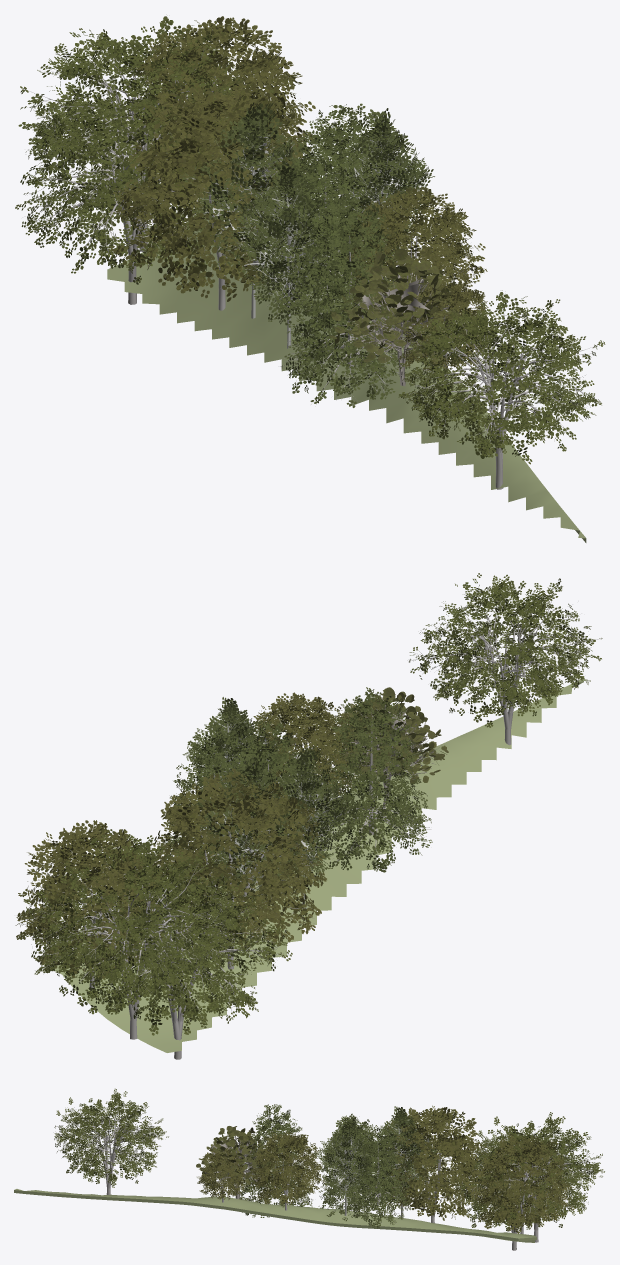
The picture shows the model from 3 angles, top to bottom: view 1: azimuth 30°, elevation 25°; view 2: azimuth 150°, elevation 25°; view 3: azimuth 270°, elevation 25°; orthographic projection. The views are drawn at different scales.
Visible parts, largest first — view 1: SW_W_trees_Tree_015_UNVERIFIEDspecies, SW_W_trees_Tree_019_UNVERIFIEDspecies, SW_W_trees_Tree_023_UNVERIFIEDspecies, SW_W_trees_Tree_050_UNVERIFIEDspecies, SW_ground_west_lawn_-2_0, SW_W_trees_Tree_096_UNVERIFIEDspecies; view 2: SW_W_trees_Tree_015_UNVERIFIEDspecies, SW_W_trees_Tree_019_UNVERIFIEDspecies, SW_W_trees_Tree_050_UNVERIFIEDspecies, SW_ground_west_lawn_-2_0, SW_W_trees_Tree_023_UNVERIFIEDspecies, SW_W_trees_Tree_096_UNVERIFIEDspecies; view 3: SW_W_trees_Tree_019_UNVERIFIEDspecies, SW_W_trees_Tree_015_UNVERIFIEDspecies, SW_W_trees_Tree_050_UNVERIFIEDspecies, SW_ground_west_lawn_-2_0, SW_W_trees_Tree_023_UNVERIFIEDspecies, SW_W_trees_Tree_096_UNVERIFIEDspecies.
Boxes of the visible parts, x1,y1,x2,y2 form: SW_W_trees_Tree_015_UNVERIFIEDspecies: (15,16,605,489); SW_W_trees_Tree_019_UNVERIFIEDspecies: (110,16,494,371); SW_W_trees_Tree_023_UNVERIFIEDspecies: (180,102,434,348); SW_W_trees_Tree_050_UNVERIFIEDspecies: (256,103,410,407); SW_ground_west_lawn_-2_0: (107,187,586,542); SW_W_trees_Tree_096_UNVERIFIEDspecies: (330,248,471,386); SW_W_trees_Tree_015_UNVERIFIEDspecies: (15,573,602,1059); SW_W_trees_Tree_019_UNVERIFIEDspecies: (16,692,407,978); SW_W_trees_Tree_050_UNVERIFIEDspecies: (159,687,432,890); SW_ground_west_lawn_-2_0: (41,677,585,1052); SW_W_trees_Tree_023_UNVERIFIEDspecies: (182,697,357,939); SW_W_trees_Tree_096_UNVERIFIEDspecies: (335,687,448,807); SW_W_trees_Tree_019_UNVERIFIEDspecies: (197,1105,574,1234); SW_W_trees_Tree_015_UNVERIFIEDspecies: (54,1088,604,1250); SW_W_trees_Tree_050_UNVERIFIEDspecies: (239,1104,411,1228); SW_ground_west_lawn_-2_0: (14,1189,536,1242); SW_W_trees_Tree_023_UNVERIFIEDspecies: (314,1106,439,1217); SW_W_trees_Tree_096_UNVERIFIEDspecies: (196,1126,273,1198).
Size of the model in its own units: 32.42 by 31.1 by 109.
10 materials, 5 textured.
